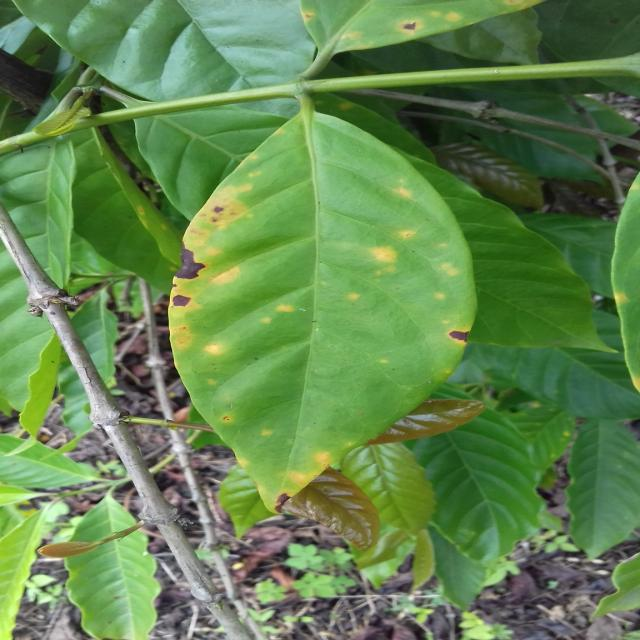Enfermedad-Roya: (167, 115, 472, 514)
